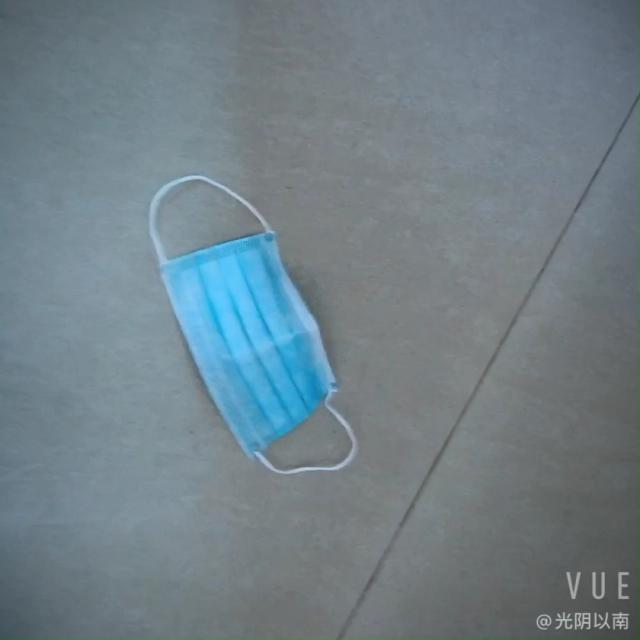face mask: (154, 229, 328, 457)
